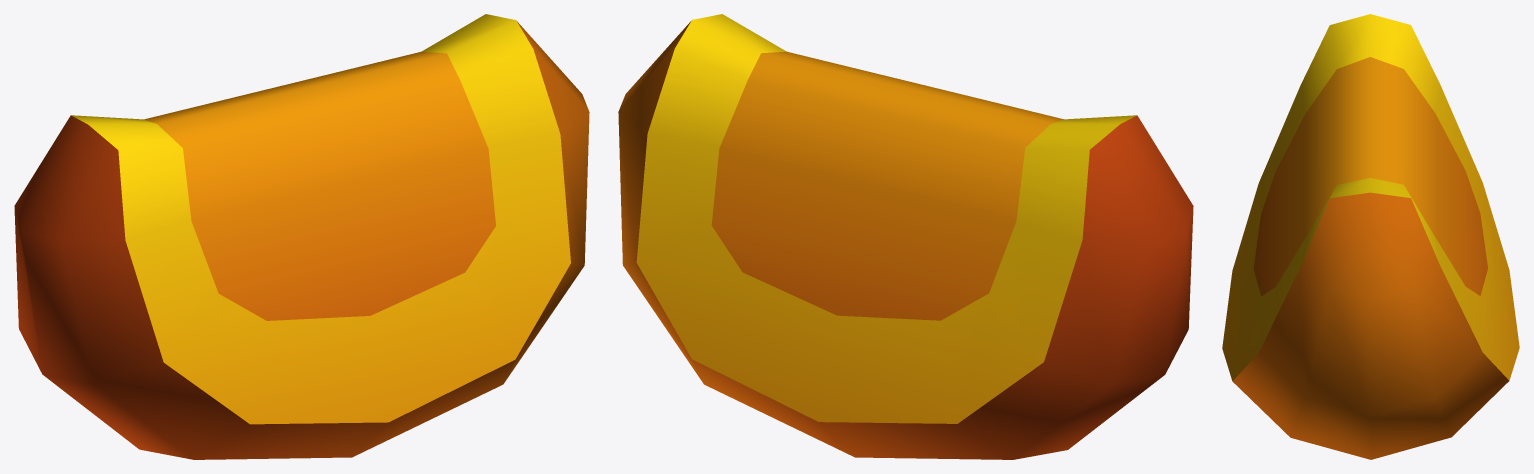
Rendered from Pumpkin_Slice.glb.
3 renders of one model, left to right at view 1: azimuth 30°, elevation 25°; view 2: azimuth 150°, elevation 25°; view 3: azimuth 270°, elevation 25°, orthographic. The views are drawn at different scales.
Parts seen in each view (by area): view 1: Pumpkin_Slice; view 2: Pumpkin_Slice; view 3: Pumpkin_Slice.
Part boxes in pixels (x1,y1,x2,y2): Pumpkin_Slice: [14, 14, 589, 459]; Pumpkin_Slice: [618, 14, 1193, 459]; Pumpkin_Slice: [1222, 14, 1519, 459].
Size of the model in its own units: 0.4646 by 0.2955 by 0.2496.
Materials: 1 (1 with a texture image).
